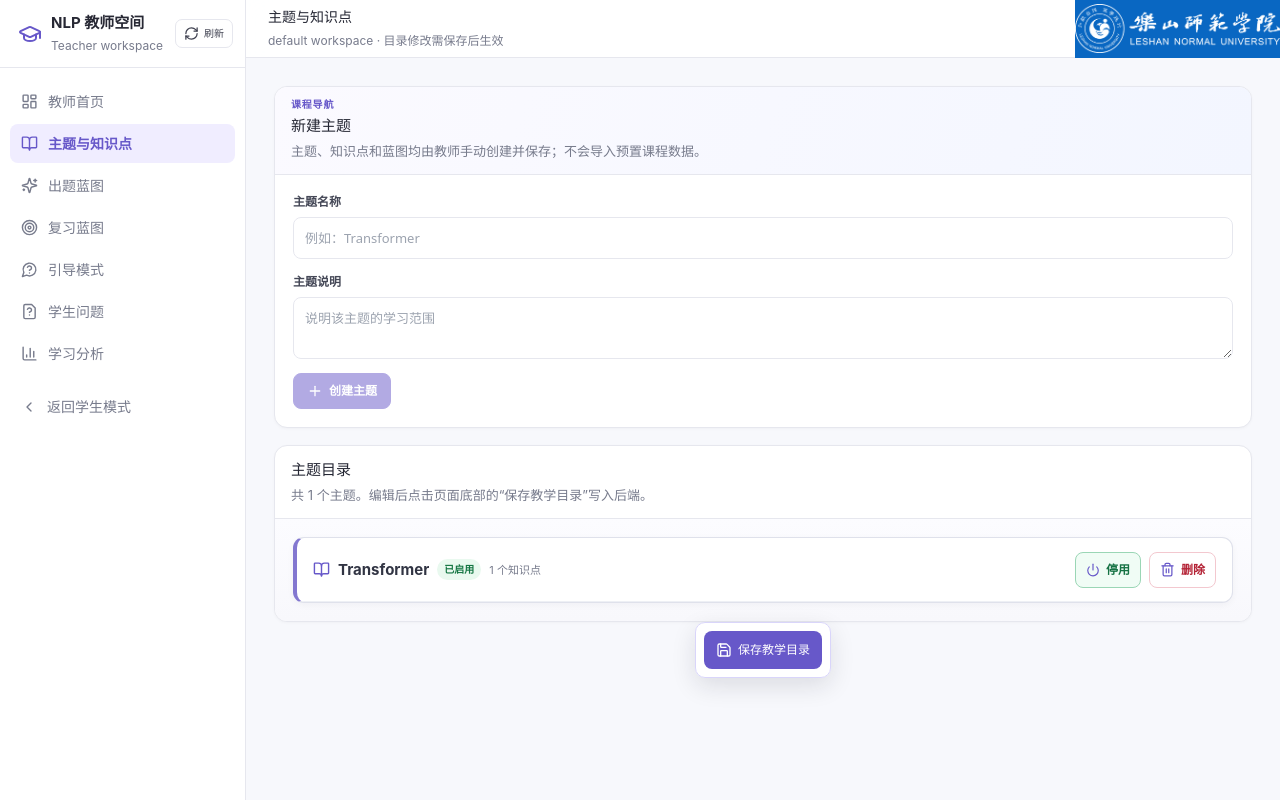
Scenario: TeacherWorkspace catalog CRUD › creates a topic immediately and persists the catalog through FastAPI
The image size is (1280, 800).
Type "词向量" into the field with placeholder "例如：Transformer". click: (763, 238)
box: [293,217,1233,259]
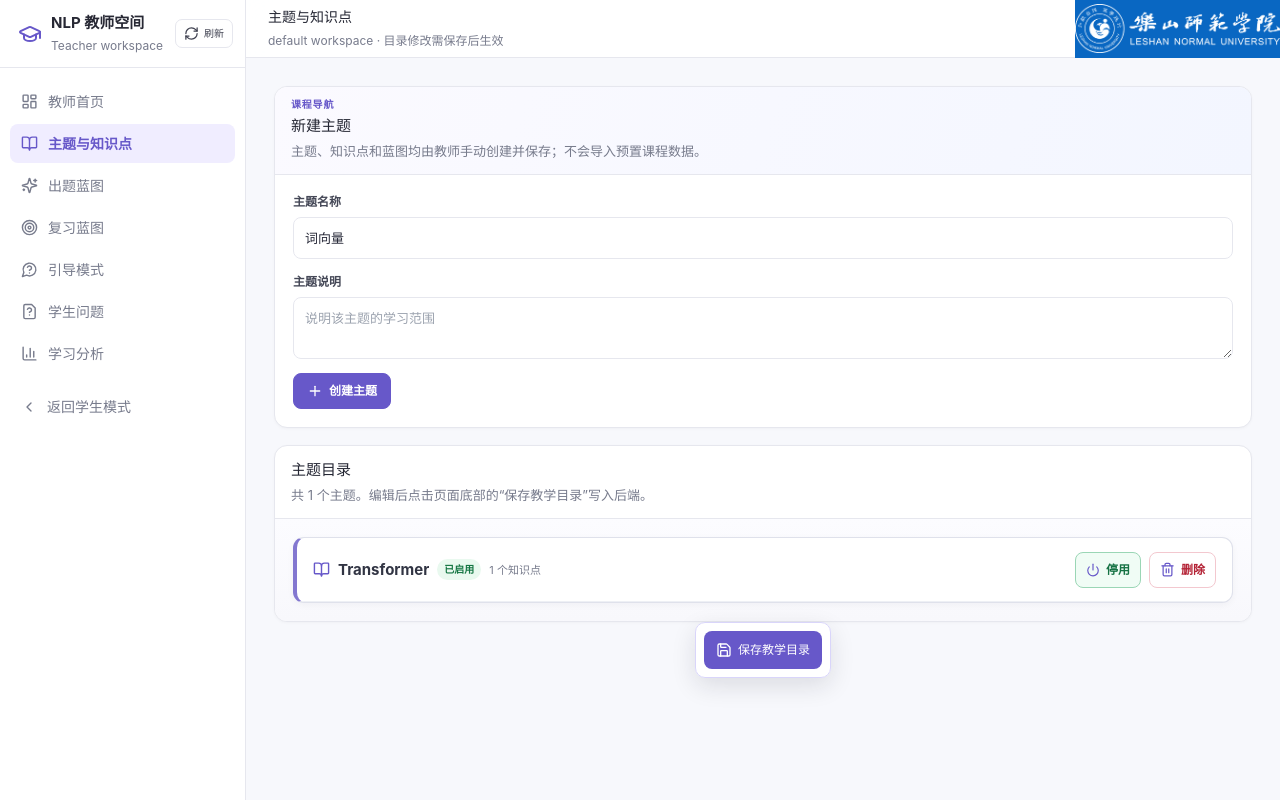
Click the button "创建主题". click: (342, 391)
box: [293,373,391,409]
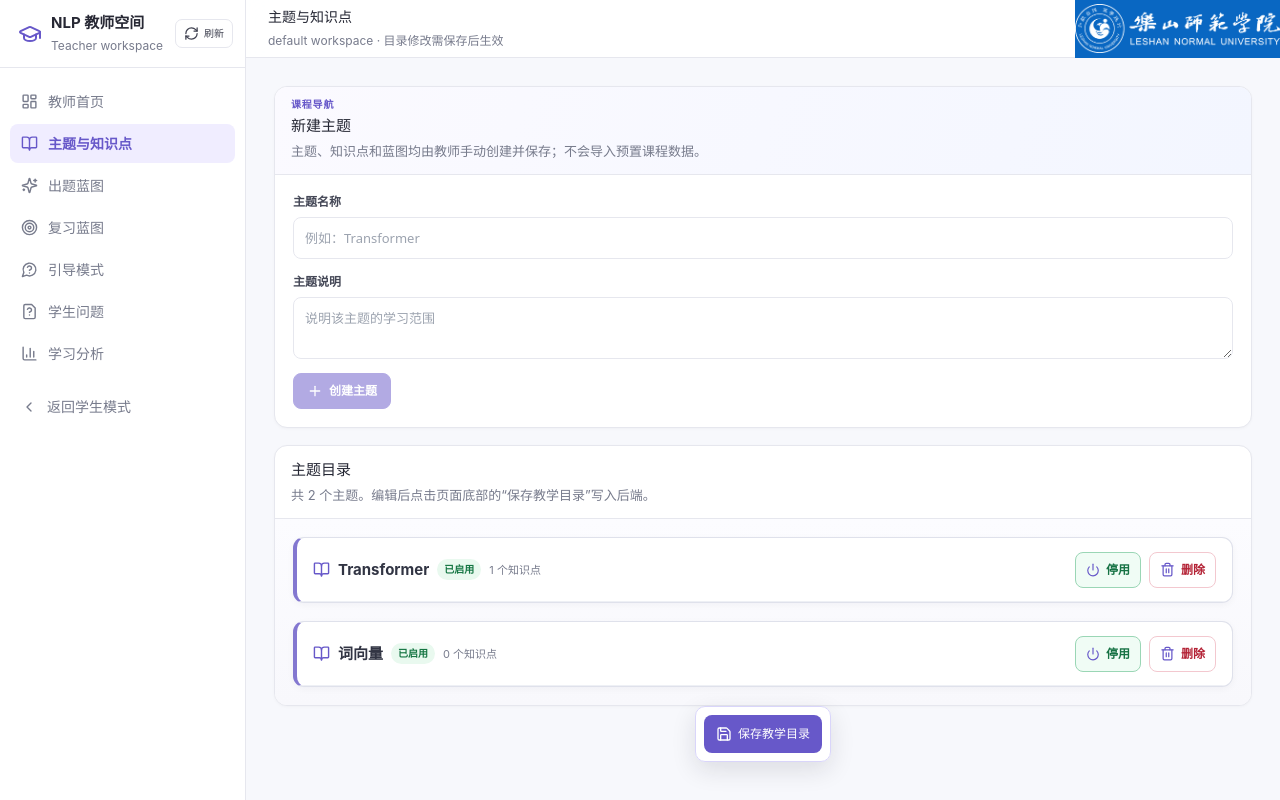
Click the button named "词向量 展开". click: (361, 653)
box: [313,632,1063,675]
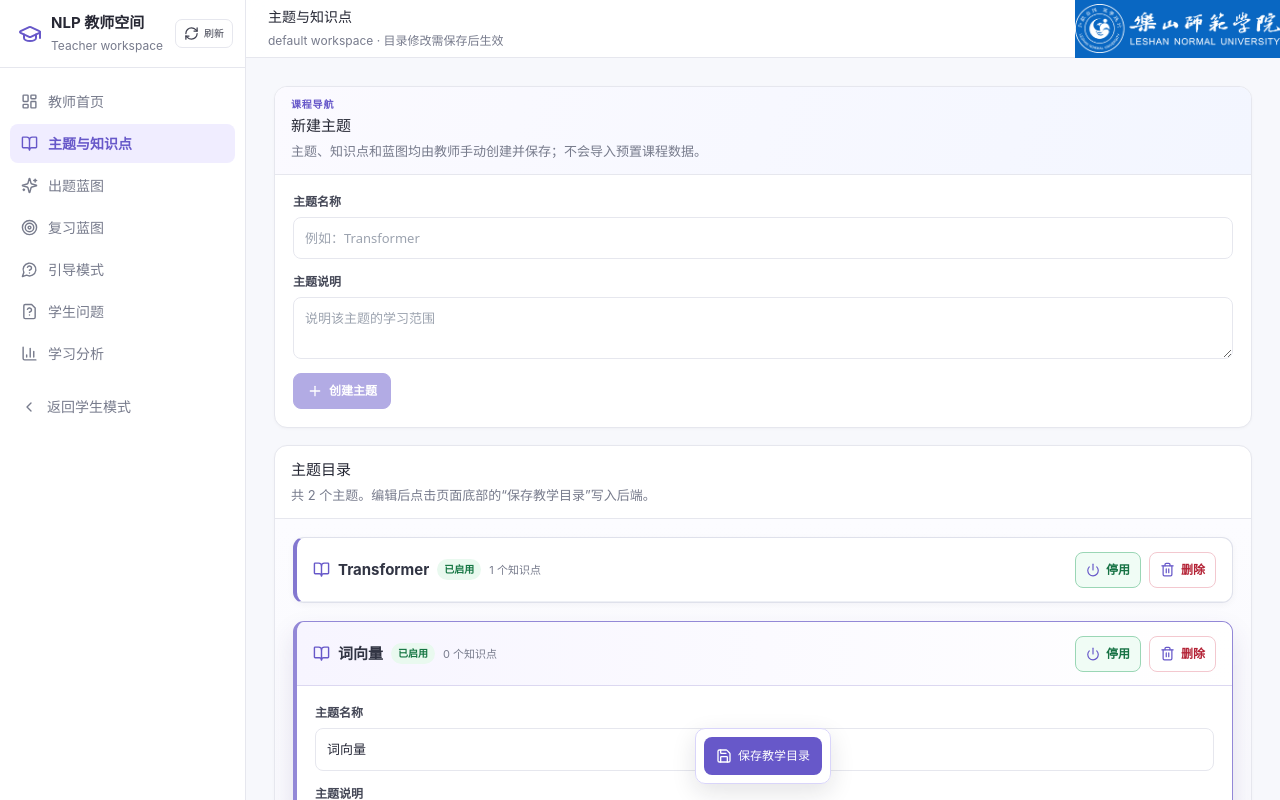
Now the field showing "词向量" below "个主题。编辑后点击页面底部的“保存教学目录”写入后端。" is shown, box [315,728,1214,770]
Click the button "保存教学目录". click: (763, 756)
box: [704,737,822,775]
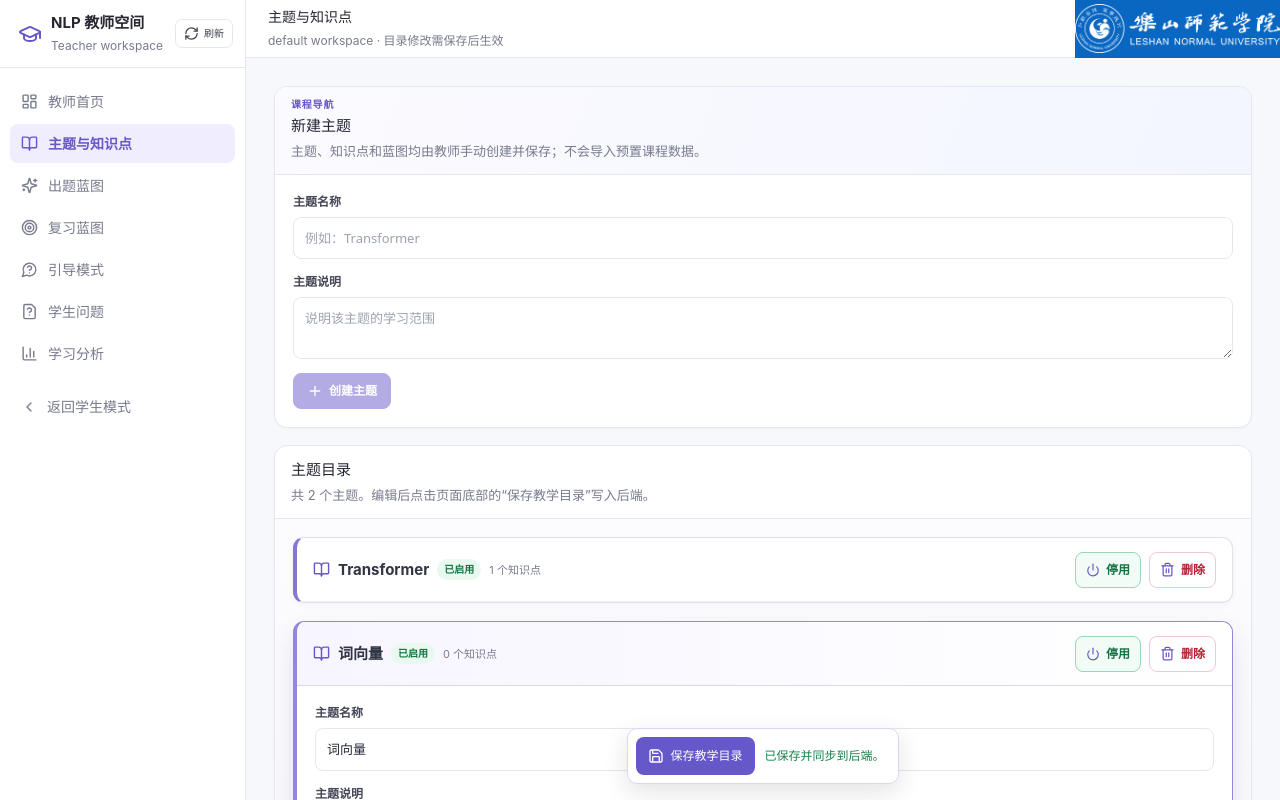
Now the message reads "已保存并同步到后端。", box [764,748,884,763]
